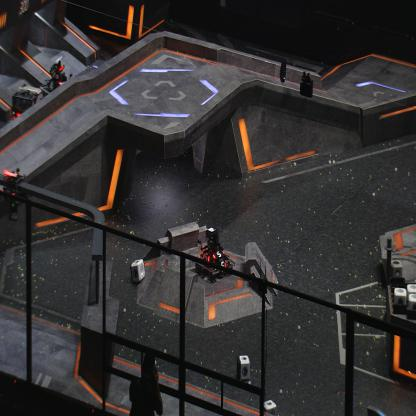car: (194, 226, 235, 280), (9, 84, 44, 139), (40, 61, 74, 105)
